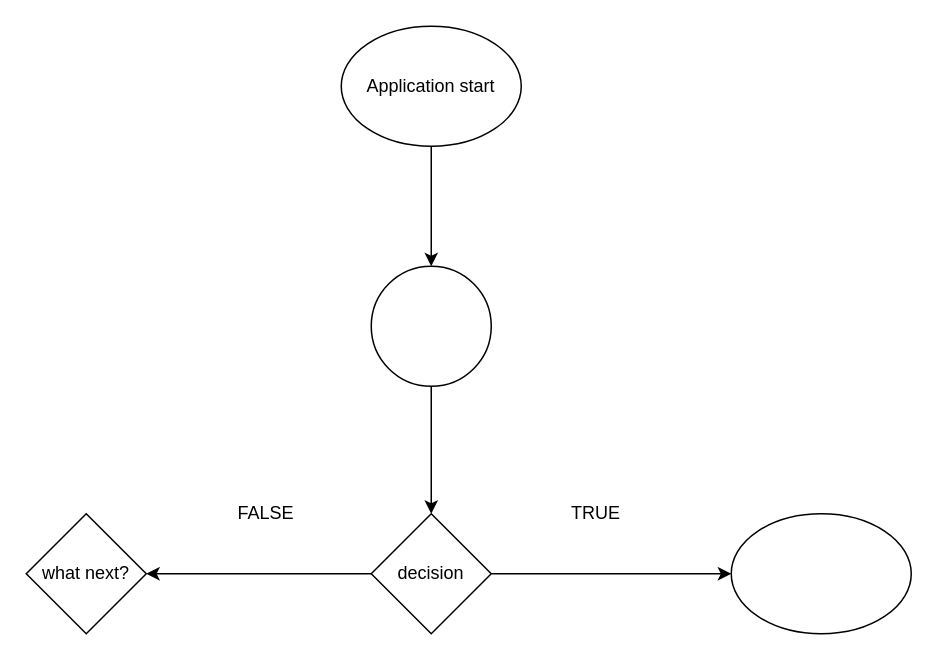
Image size: 938x660. Some labels were removed from this diagram. Here are the shapes that lost their labels. From the top down, the centre of each, then its label:
At (x=430, y=325): "do something".
At (x=820, y=573): "do that".
